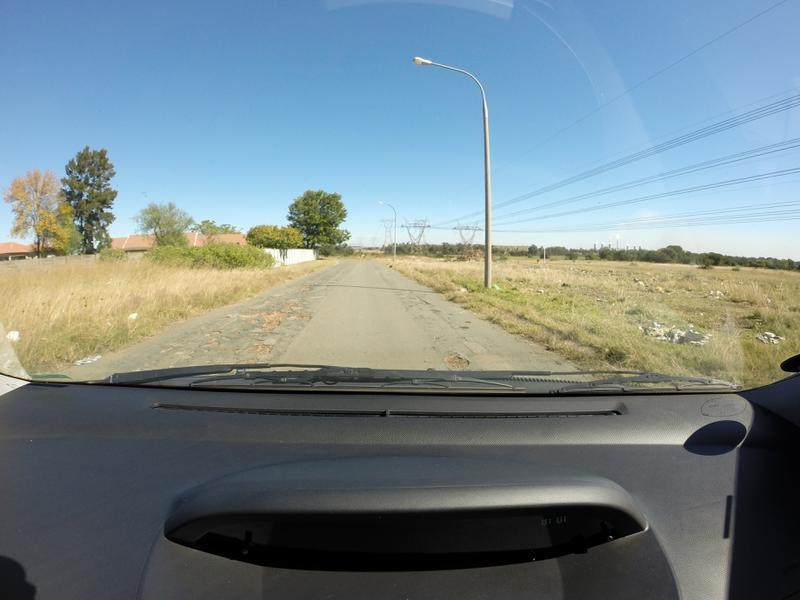pothole: (257, 299, 318, 325), (430, 348, 473, 367), (232, 340, 279, 356), (198, 330, 220, 355), (171, 344, 185, 370)
